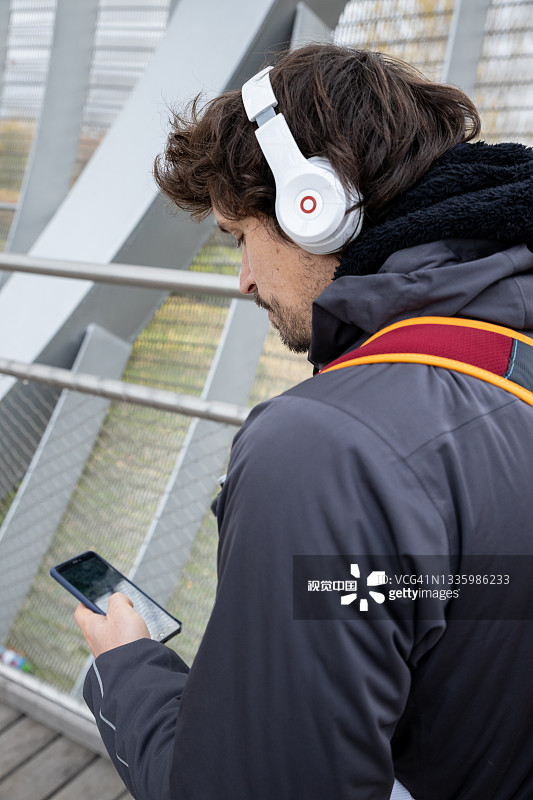reading: (21, 526, 196, 680)
